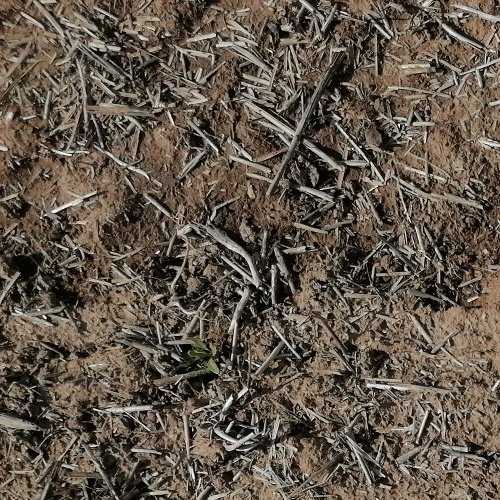beet: (186, 336, 224, 380)
